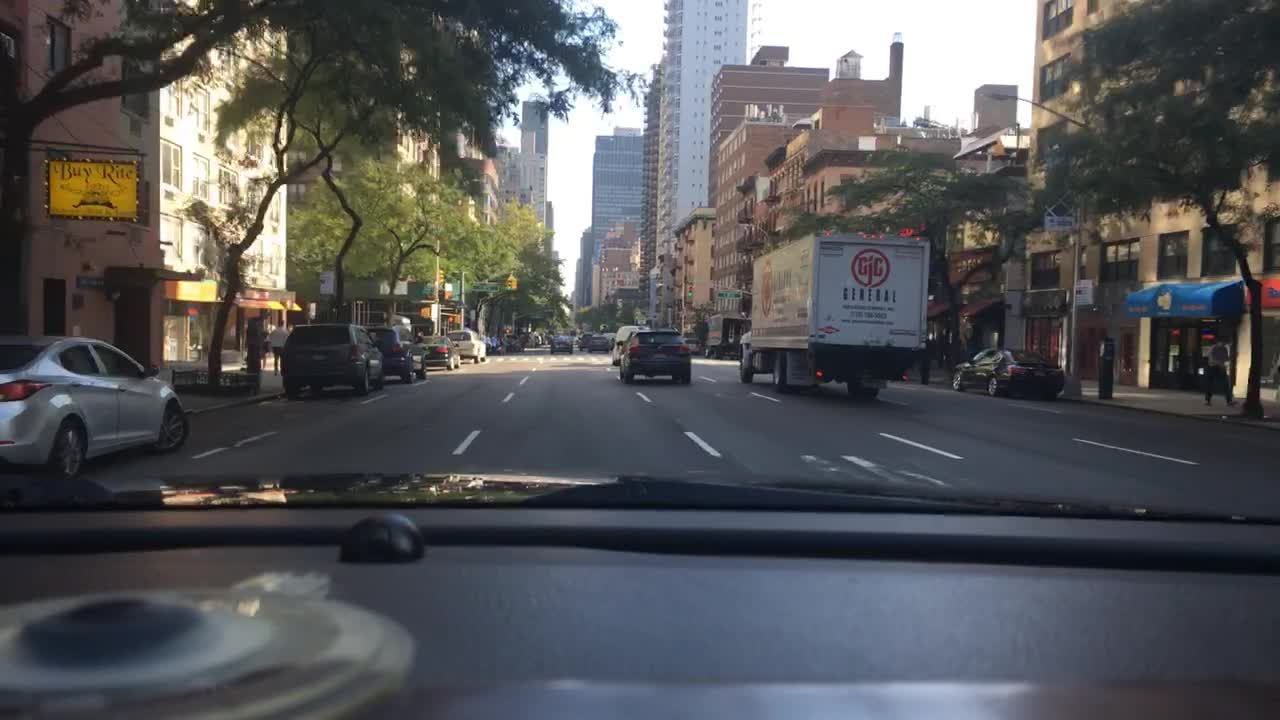car: (0, 330, 188, 479), (278, 320, 385, 398), (951, 346, 1065, 398), (617, 327, 694, 386), (366, 325, 428, 382), (407, 331, 461, 370), (444, 325, 490, 363), (611, 323, 649, 365), (585, 330, 610, 352), (548, 332, 573, 352), (503, 334, 526, 353), (577, 330, 591, 348)
person: (1203, 335, 1236, 407), (267, 315, 293, 376), (487, 331, 499, 353), (411, 330, 423, 342), (485, 331, 491, 351), (478, 331, 486, 344)
traffic light: (501, 271, 513, 291), (507, 273, 518, 291), (446, 311, 460, 324), (684, 283, 695, 298), (437, 269, 447, 285), (418, 308, 432, 319)
traffic sign: (1075, 278, 1094, 306), (1042, 216, 1074, 230), (715, 290, 744, 302)
truck: (737, 227, 929, 403), (696, 313, 750, 360)
